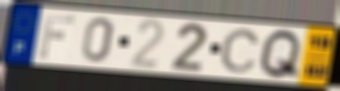0: (81, 15, 117, 65)
2: (169, 22, 211, 73), (128, 18, 168, 71)
C: (219, 27, 262, 74)
F: (37, 12, 77, 60)
Q: (256, 28, 305, 81)
